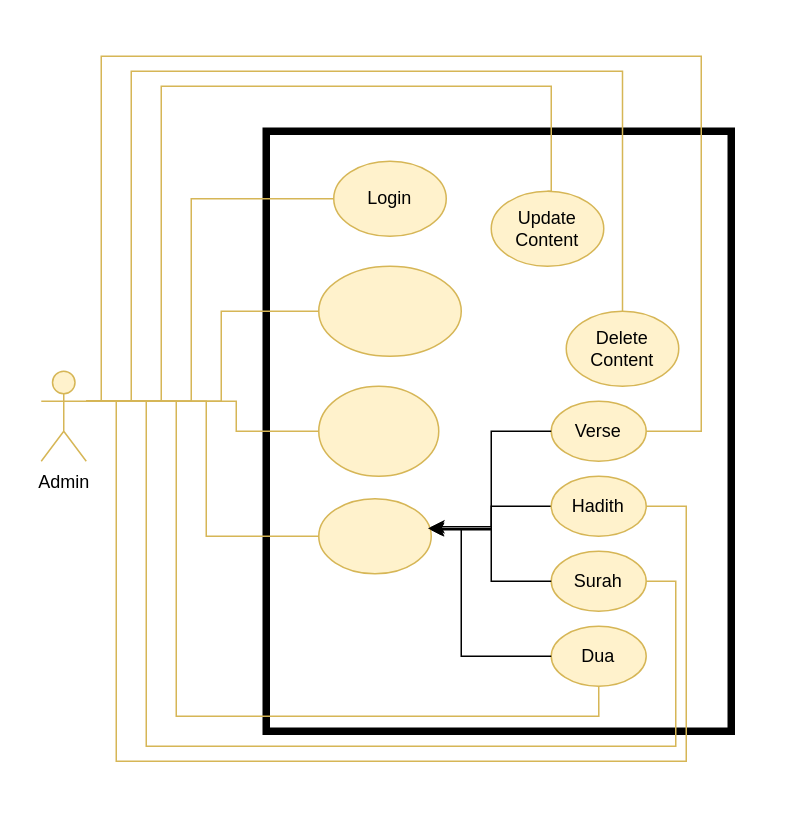
Image size: 801x816. Some labels were removed from this diagram. The shapes that lost their labels are listed below. From the top down, each one's box as (x1, y1, x2, y2) in pixels, then its label:
(317, 265, 461, 356): View Reported Content
(317, 385, 439, 476): Add Relationship
(317, 497, 431, 574): Add
